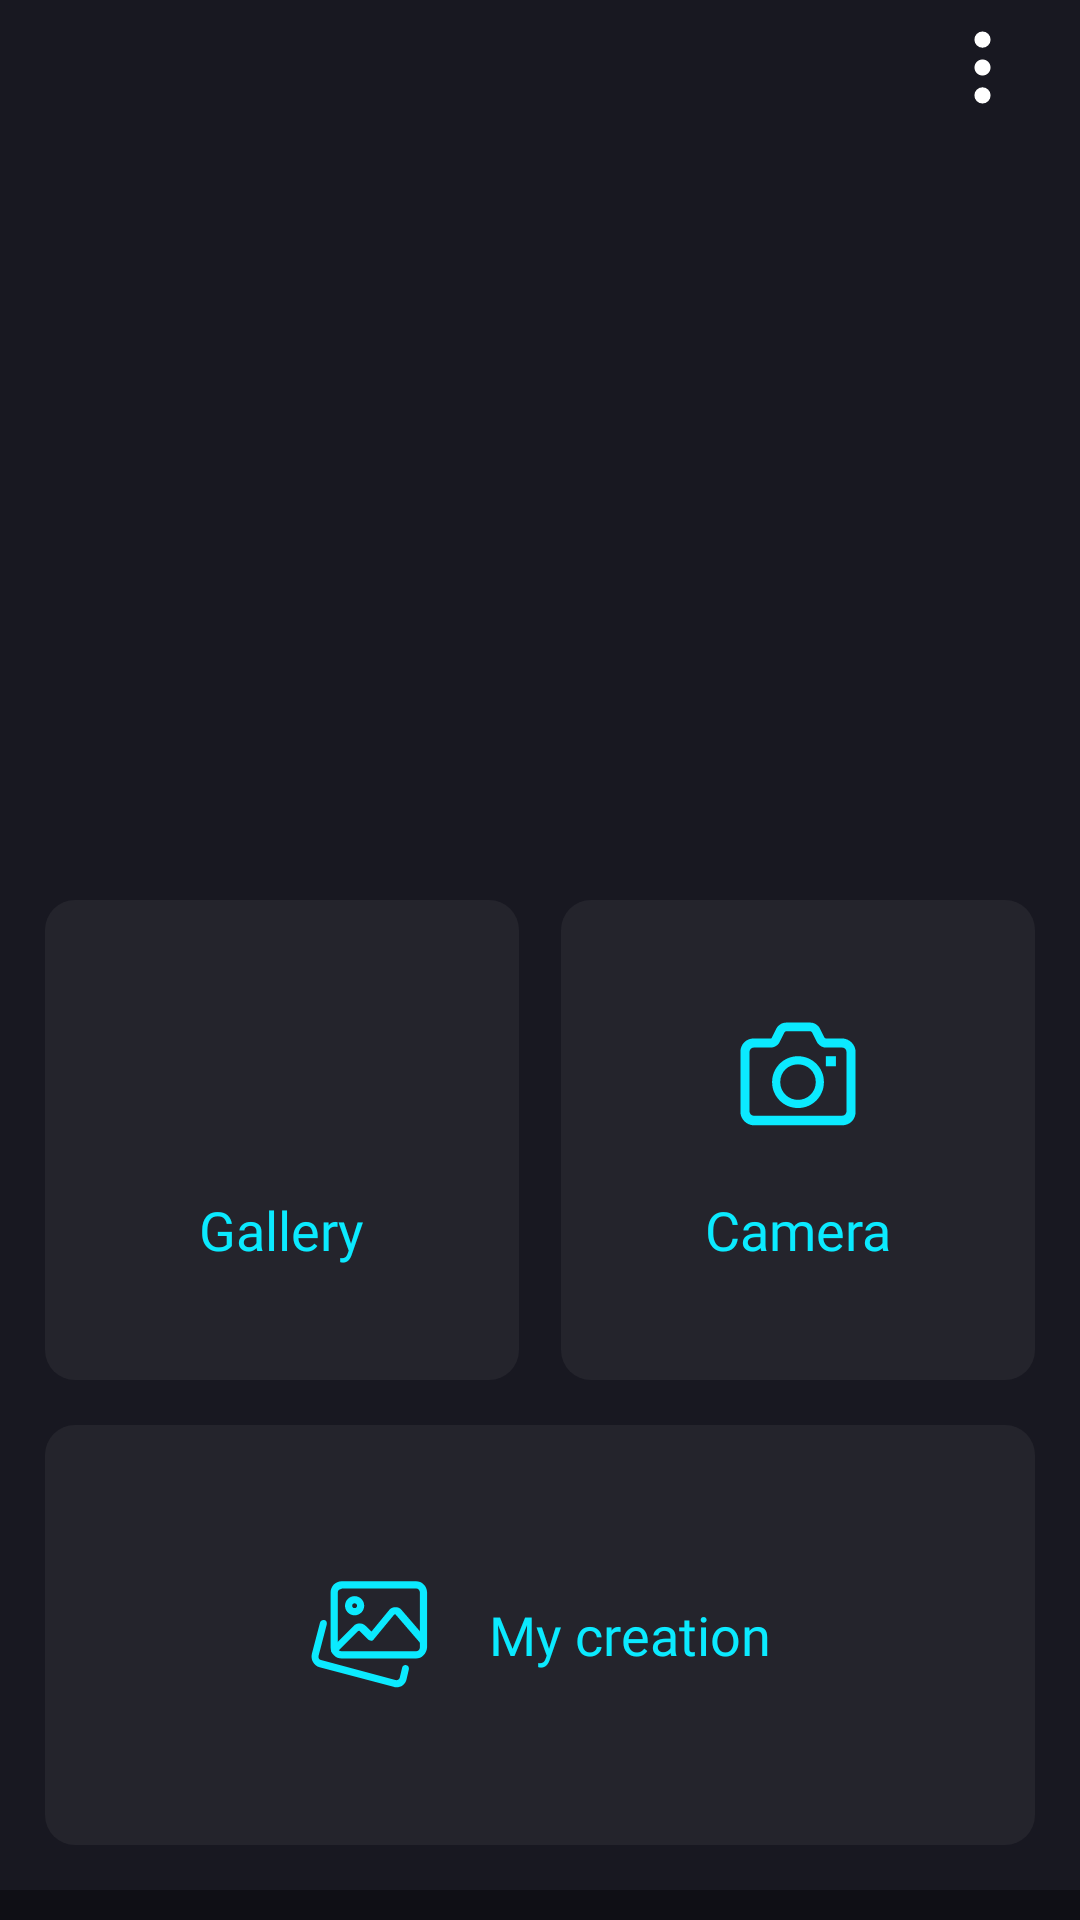

Icons on this 1080 × 1920 Android screen, each with the point to tap as (x,y):
more: (982,67)
